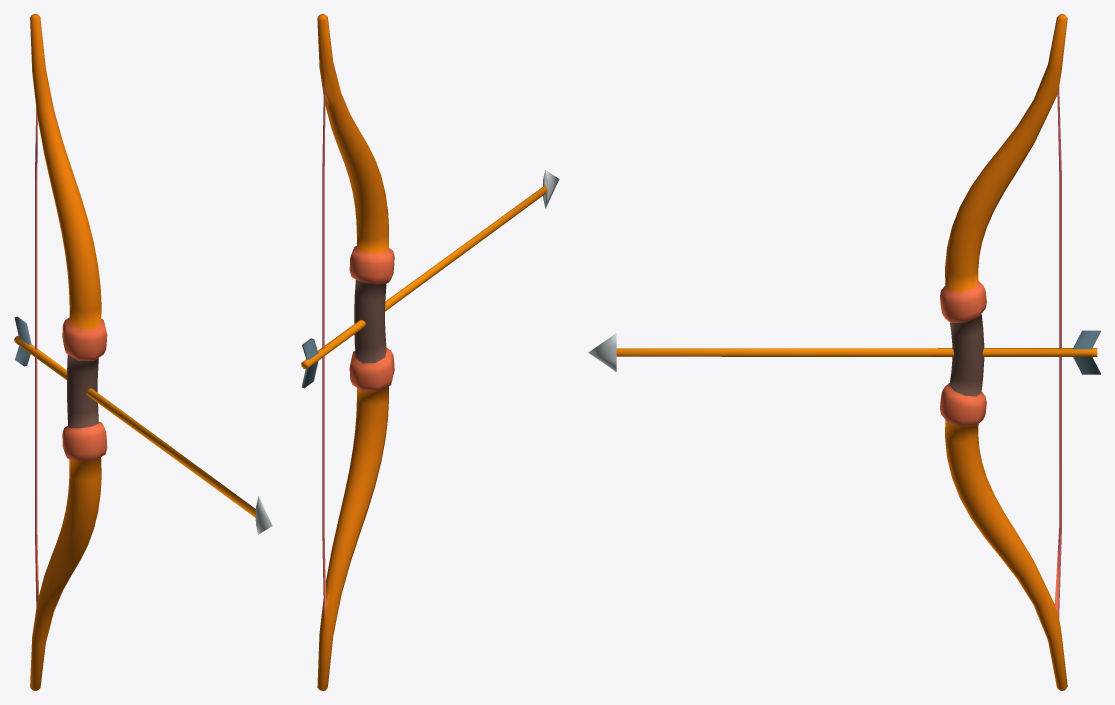
3 renders of one model, left to right at view 1: azimuth 30°, elevation 25°; view 2: azimuth 150°, elevation 25°; view 3: azimuth 270°, elevation 25°, orthographic.
Visible parts, largest first — view 1: Bow, Arrow; view 2: Bow, Arrow; view 3: Bow, Arrow.
Part boxes in pixels (box(x1,y1,x2,y2)): Bow: box(30, 14, 107, 690); Arrow: box(14, 316, 272, 534); Bow: box(317, 14, 394, 690); Arrow: box(301, 170, 559, 388); Bow: box(940, 14, 1067, 690); Arrow: box(588, 330, 1100, 374).
Size of the model in its own units: 11.08 by 179 by 123.
Materials: 2 (2 with a texture image).
